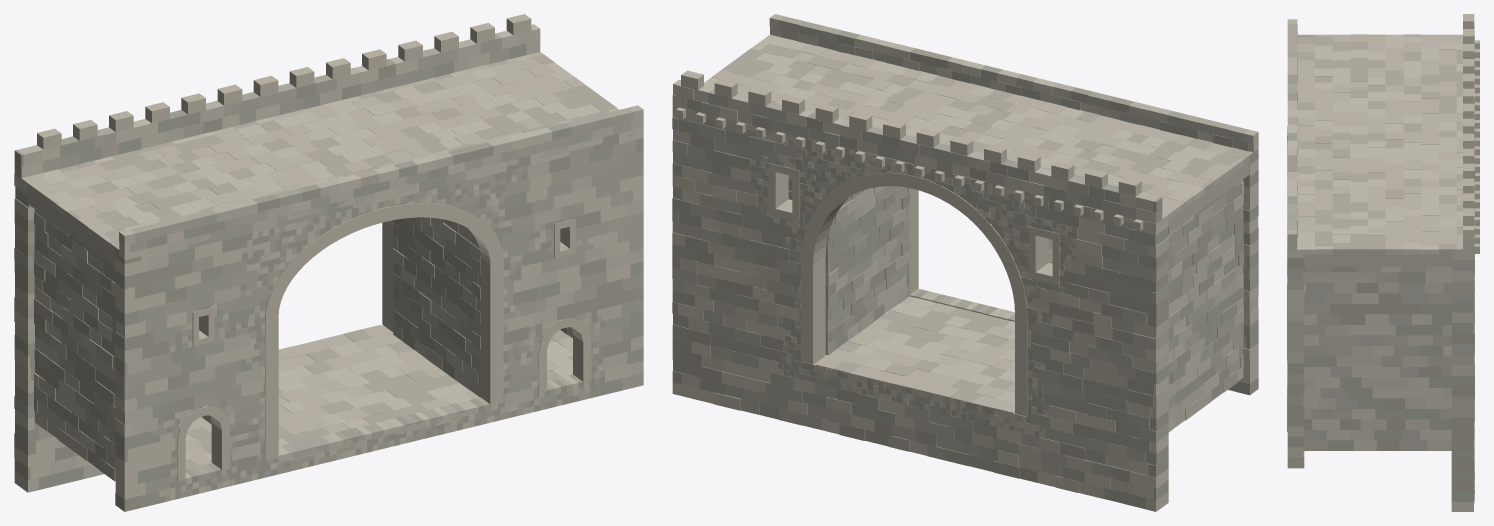
The model's file is Gatehouse_V4.glb.
3 views of the same model, side by side, from view 1: azimuth 30°, elevation 25°; view 2: azimuth 150°, elevation 25°; view 3: azimuth 270°, elevation 25° (orthographic). The views are drawn at different scales.
Visible parts, largest first — view 1: Gatehouse_V4; view 2: Gatehouse_V4; view 3: Gatehouse_V4.
Boxes of the visible parts, x1,y1,x2,y2 form: Gatehouse_V4: [14, 14, 643, 511]; Gatehouse_V4: [672, 14, 1258, 511]; Gatehouse_V4: [1287, 14, 1479, 511].
Bounding box in the file's own units: 31.6 × 20.05 × 11.99.
